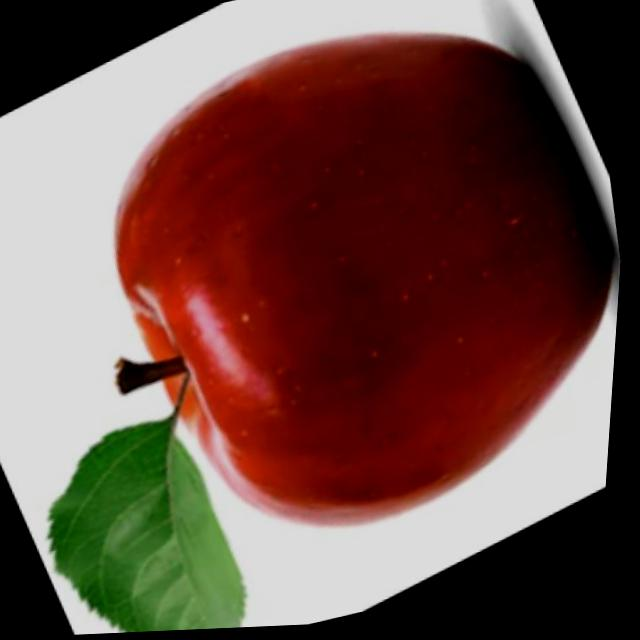Apple: (54, 0, 640, 585)
